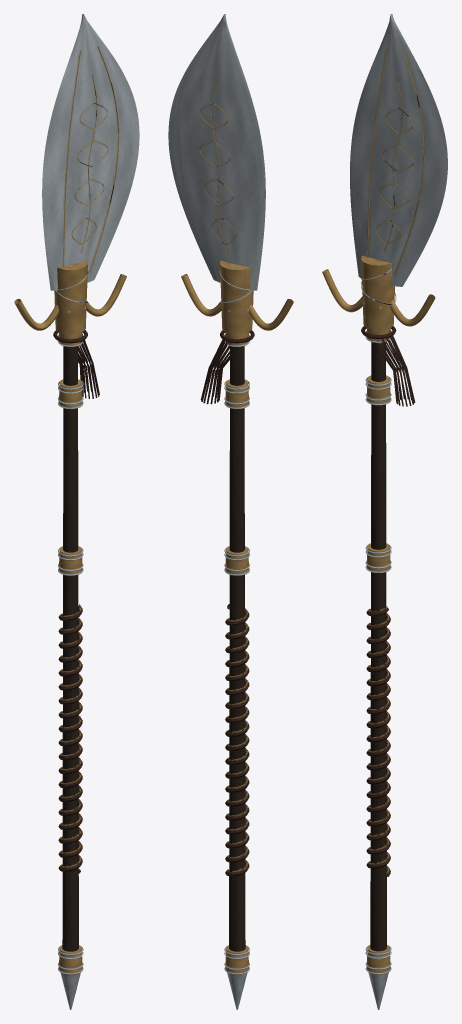
Rendered from polearm.glb.
3 renders of one model, left to right at view 1: azimuth 30°, elevation 25°; view 2: azimuth 150°, elevation 25°; view 3: azimuth 330°, elevation 25°, orthographic.
Visible parts, largest first — view 1: Polearm_LOD0; view 2: Polearm_LOD0; view 3: Polearm_LOD0.
Part boxes in pixels (x1=…): Polearm_LOD0: x1=14, y1=14, x2=139, y2=1009; Polearm_LOD0: x1=168, y1=14, x2=293, y2=1009; Polearm_LOD0: x1=322, y1=14, x2=447, y2=1009.
Bounding box in the file's own units: 0.399 × 3.04 × 0.0982.
Materials: 1 (1 with a texture image).
